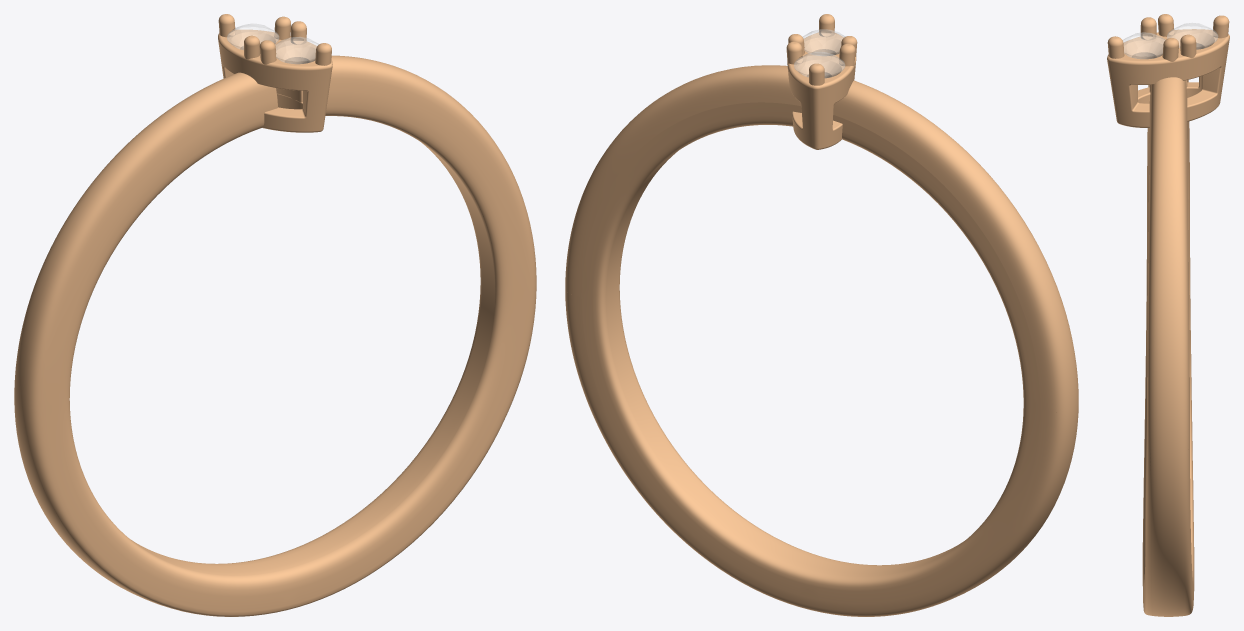
The model's file is ava.glb.
3 views of the same model, side by side, from view 1: azimuth 30°, elevation 25°; view 2: azimuth 150°, elevation 25°; view 3: azimuth 270°, elevation 25° (orthographic).
Parts seen in each view (by area): view 1: Gold_Rose_#1, Gem_Stone_Diamond_#1; view 2: Gold_Rose_#1, Gem_Stone_Diamond_#1; view 3: Gold_Rose_#1, Gem_Stone_Diamond_#1.
Boxes of the visible parts, x1,y1,x2,y2 form: Gold_Rose_#1: (14, 14, 536, 616); Gem_Stone_Diamond_#1: (227, 24, 318, 63); Gold_Rose_#1: (565, 14, 1078, 616); Gem_Stone_Diamond_#1: (794, 29, 844, 77); Gold_Rose_#1: (1107, 14, 1229, 616); Gem_Stone_Diamond_#1: (1123, 23, 1217, 58).
Bounding box in the file's own units: 19.26 × 20.54 × 4.07.
